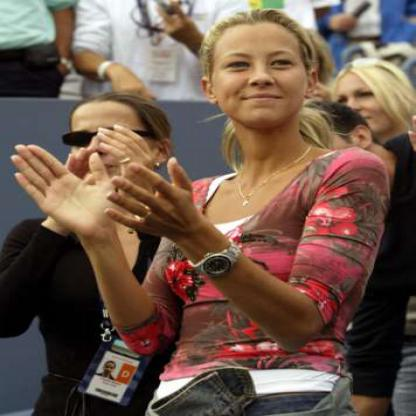face: (207, 12, 314, 129), (64, 100, 158, 194), (333, 64, 401, 138)
